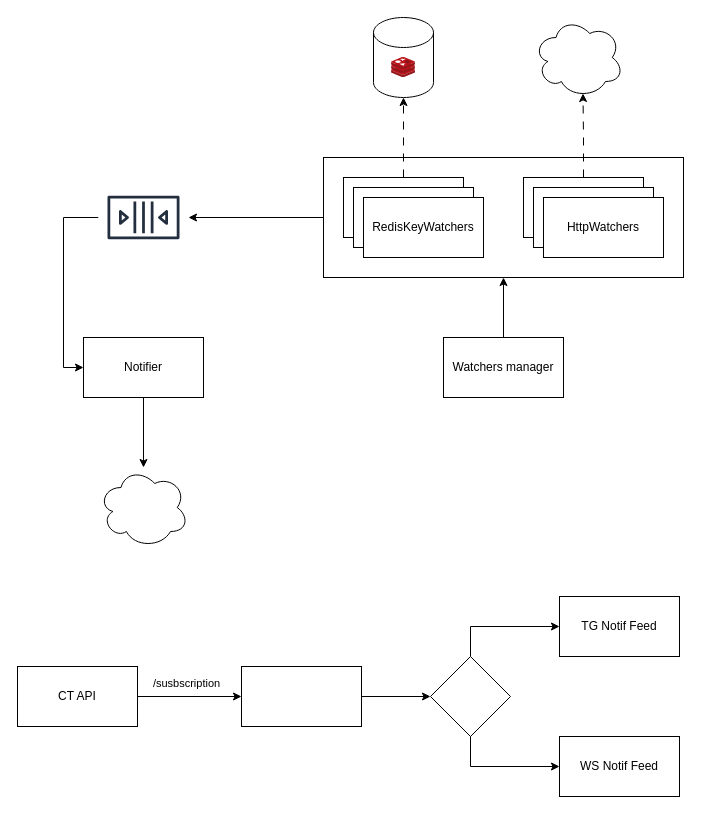
This 701x814 diagram has some shape labels left out. The centre of each missing label's shape, as x and y in pixels:
"Notif Feed Service" goes at (x=301, y=696).
"Notifications" goes at (x=143, y=217).
